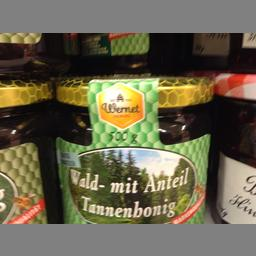honey: (50, 76, 209, 226)
